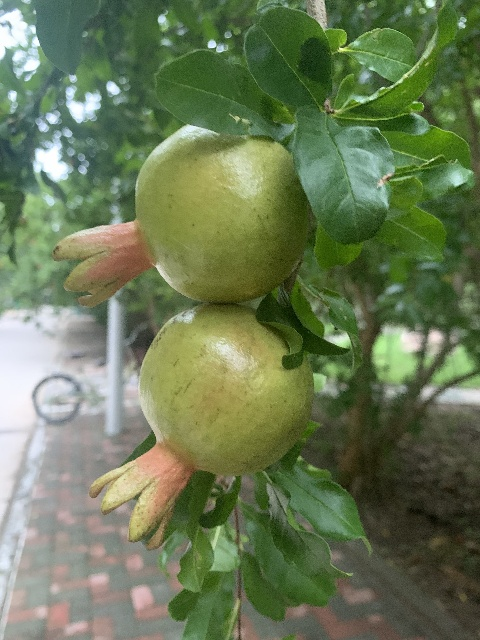mid-growth: (88, 304, 313, 552), (50, 123, 310, 306)
